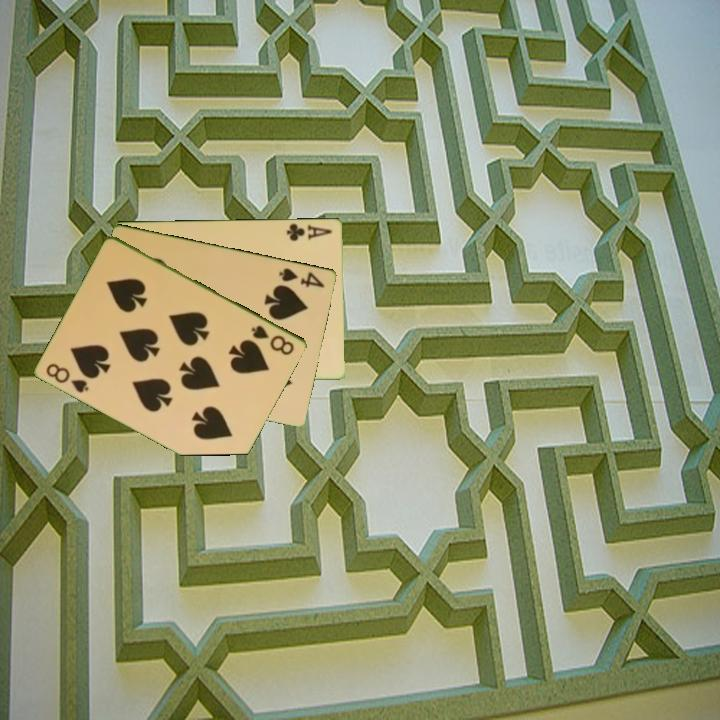4s: (276, 264, 328, 290)
8s: (248, 321, 297, 358), (43, 359, 92, 396)
Ac: (283, 220, 335, 243)
